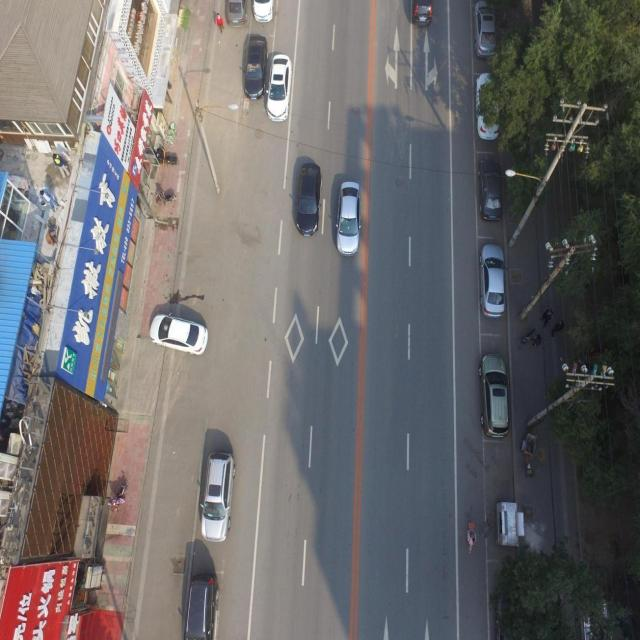p3rson: (38, 187, 60, 212), (51, 153, 70, 179), (550, 319, 564, 339), (539, 306, 552, 327), (44, 228, 57, 246), (528, 332, 541, 347), (215, 12, 224, 33), (466, 528, 476, 546)
